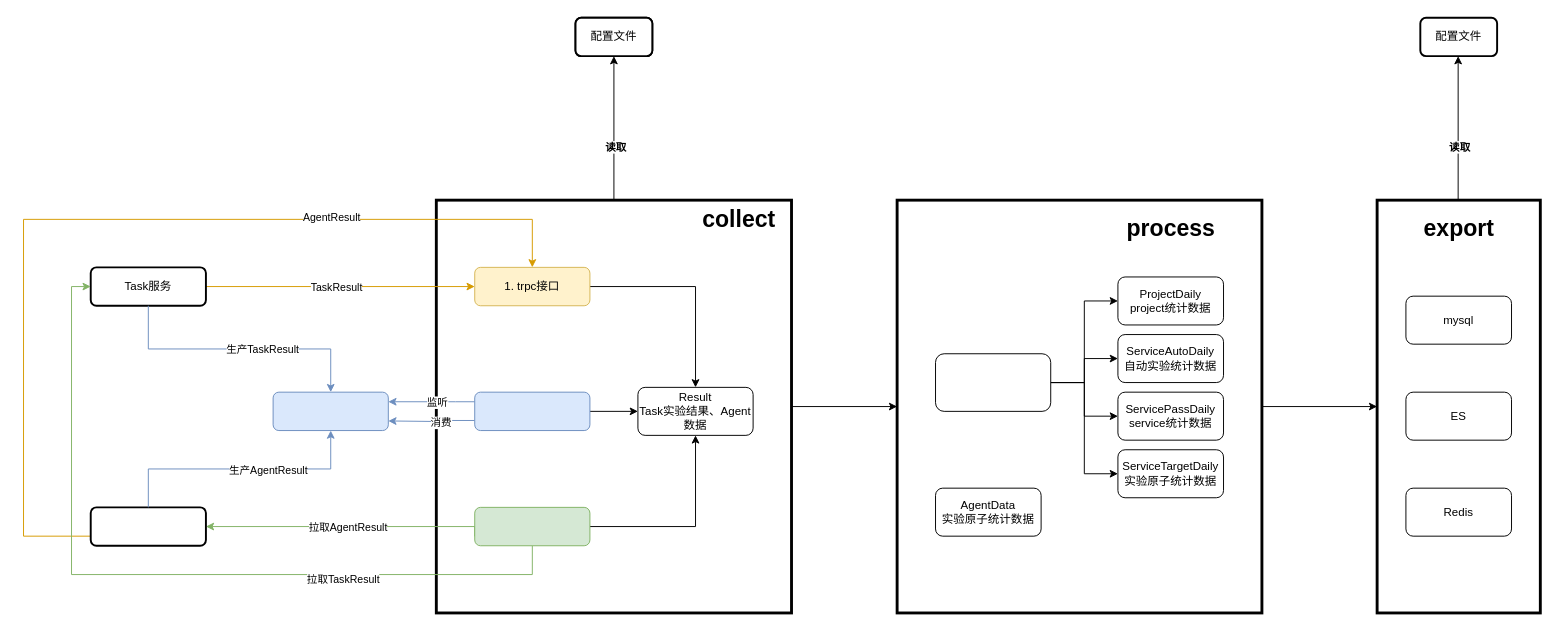
The diagram is 1558 pixels wide and 637 high, and some of its shapes have lost their labels. The shapes that lost their labels are listed below. From the top down, each one's centre as x and y in pixels, then its label:
At pixel 993 382: "TaskMap service对应task结果数据".
At pixel 330 411: "3. 消息队列".
At pixel 532 411: "2. 监听线程".
At pixel 147 526: "agent服务".
At pixel 532 526: "3. 定时任务".
